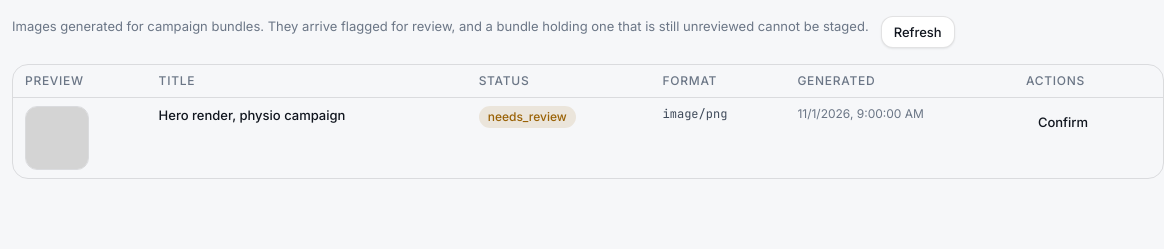
Test: AssetManager › says what confirming a picture cost the bundle waiting on it
The width and height of the screenshot is (1164, 249).
Click the button "Confirm": point(1063, 122) [1026,106,1100,138]
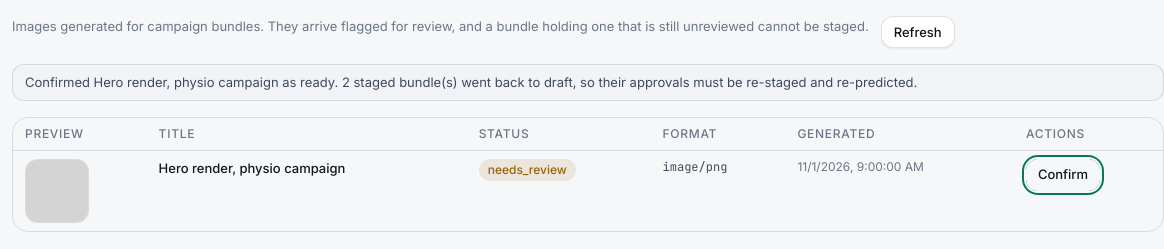
Now the message shows "2 staged bundle(s) went back to draft", box [25,74,917,90]
